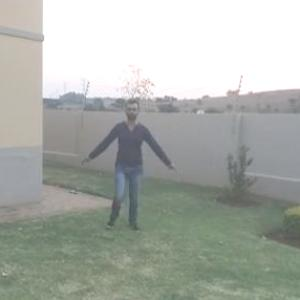land: (80, 93, 186, 230)
